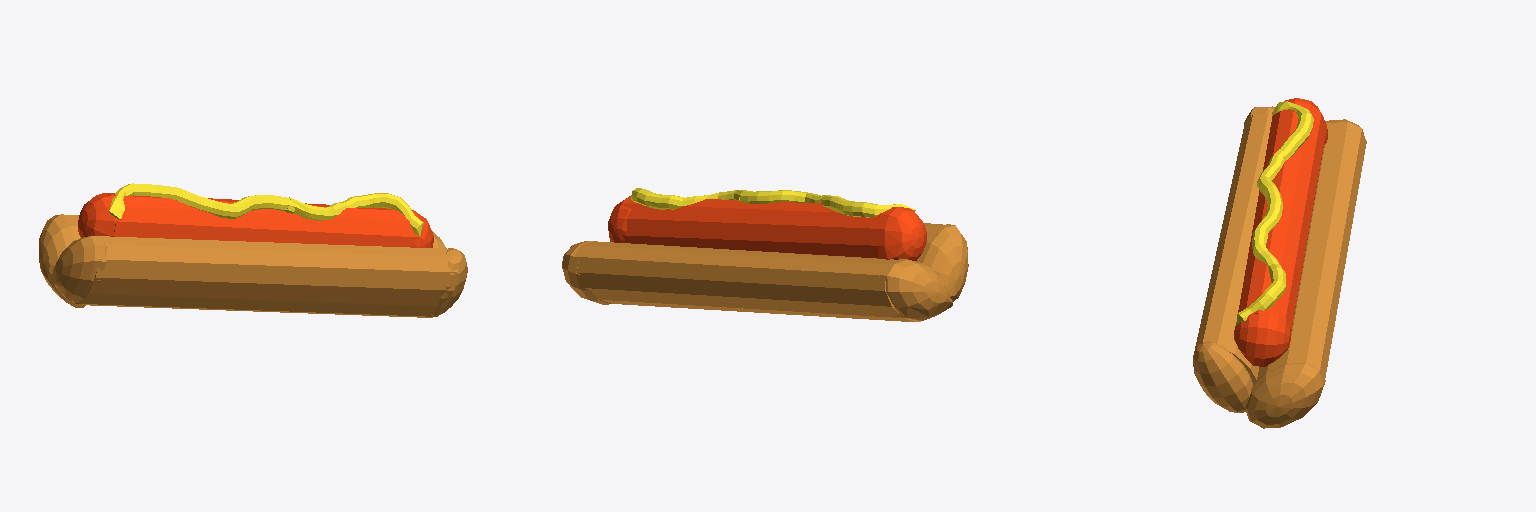
3 renders of one model, left to right at view 1: azimuth 30°, elevation 25°; view 2: azimuth 150°, elevation 25°; view 3: azimuth 270°, elevation 25°, orthographic.
Visible parts, largest first — view 1: group[number redacted]; view 2: group[number redacted]; view 3: group[number redacted].
Boxes of the visible parts, x1,y1,x2,y2 form: group[number redacted]: [39, 183, 467, 317]; group[number redacted]: [562, 188, 968, 321]; group[number redacted]: [1193, 98, 1366, 428].
Bounding box in the file's own units: 0.2882 × 0.1258 × 0.1105.